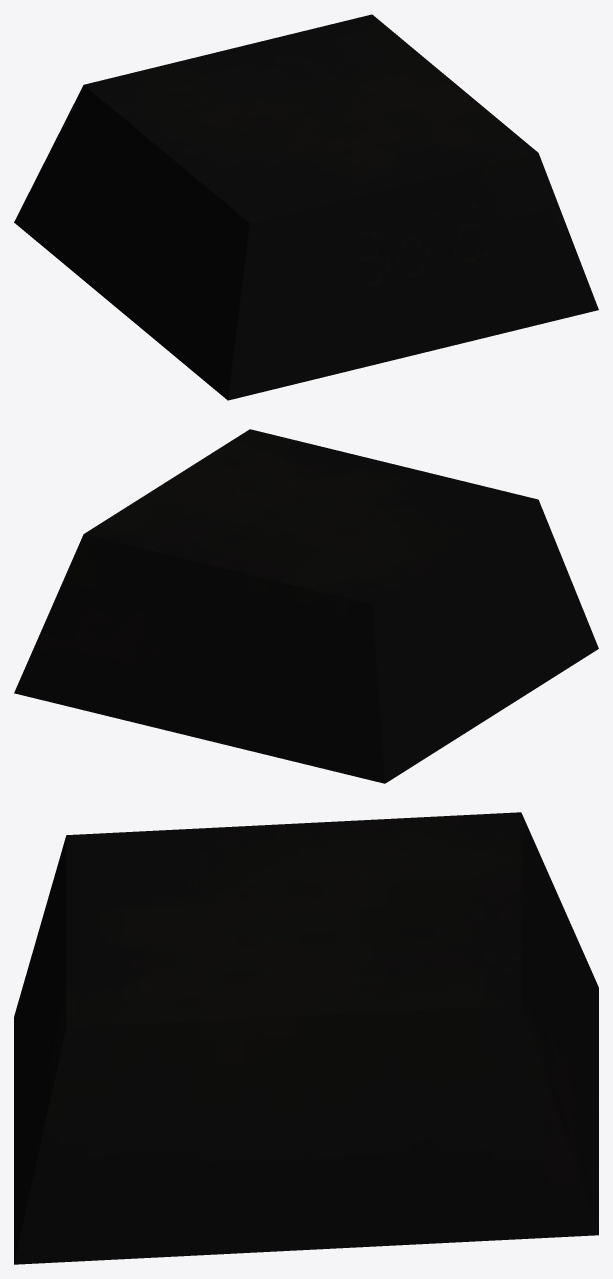
Rendered from link_37__key-43.glb.
The picture shows the model from 3 angles, top to bottom: view 1: azimuth 30°, elevation 25°; view 2: azimuth 150°, elevation 25°; view 3: azimuth 270°, elevation 25°; orthographic projection. The views are drawn at different scales.
Visible parts, largest first — view 1: world; view 2: world; view 3: world.
Part boxes in pixels (x1,y1,x2,y2): world: (14, 14, 598, 400); world: (14, 429, 598, 783); world: (14, 812, 598, 1264).
Bounding box in the file's own units: 0.0719 × 0.0315 × 0.0718.
1 material, 1 textured.
